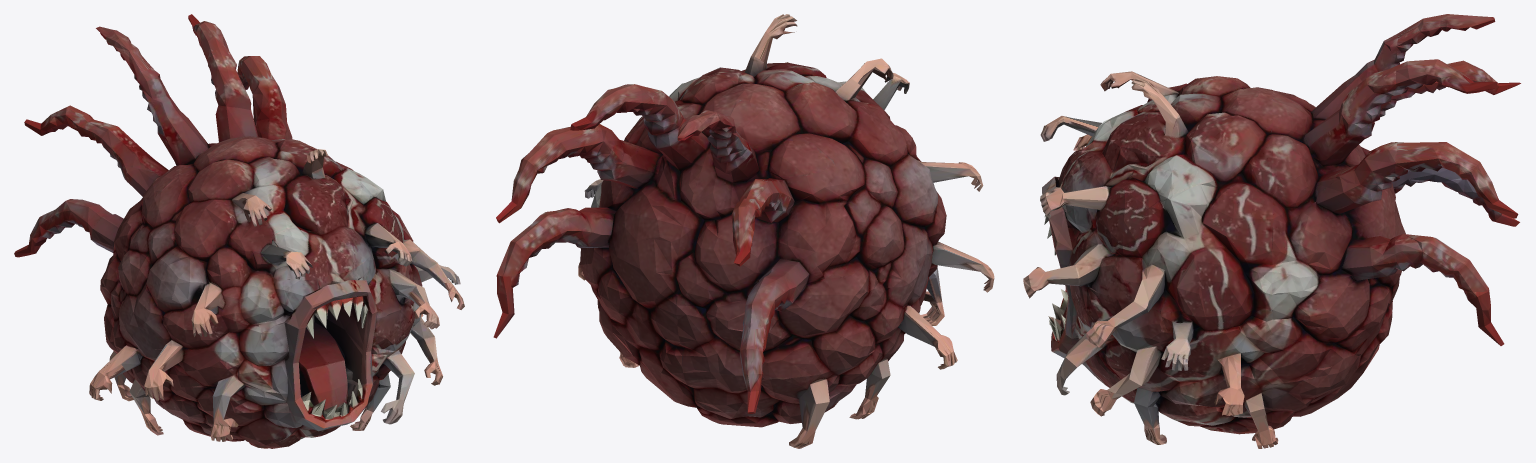
File: monster.glb
3 renders of one model, left to right at view 1: azimuth 30°, elevation 25°; view 2: azimuth 150°, elevation 25°; view 3: azimuth 270°, elevation 25°, orthographic. The views are drawn at different scales.
Parts seen in each view (by area): view 1: geometry_0; view 2: geometry_0; view 3: geometry_0.
Part boxes in pixels (left/top/right/bottom): geometry_0: left=14, top=14, right=464, bottom=448; geometry_0: left=493, top=14, right=994, bottom=448; geometry_0: left=1023, top=14, right=1520, bottom=448.
Bounding box in the file's own units: 0.8966 × 0.8344 × 0.9996.
Materials: 1 (1 with a texture image).
